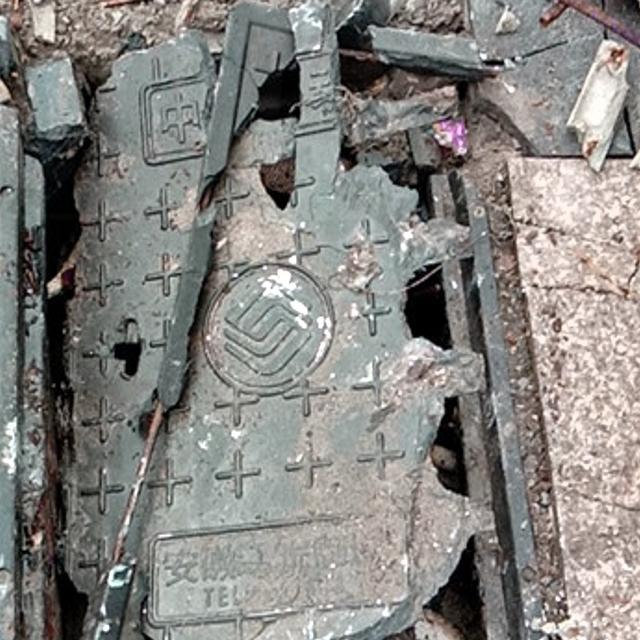broke: (0, 21, 578, 640)
